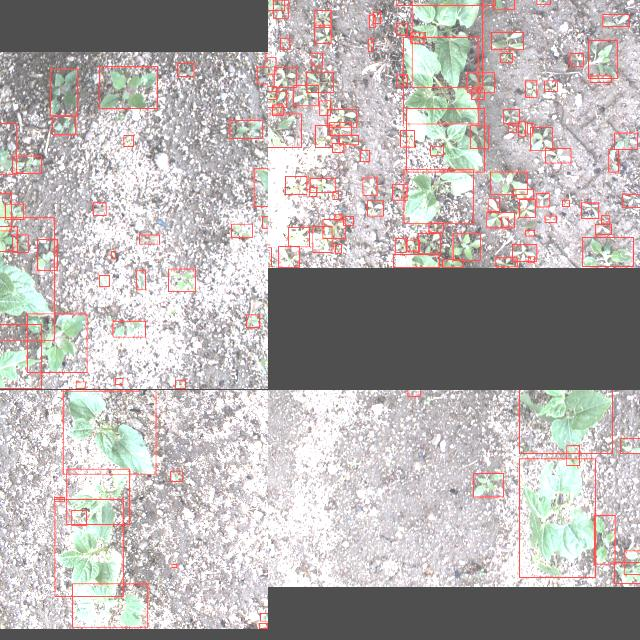crop: (519, 458, 595, 578), (62, 390, 155, 474), (402, 36, 478, 124), (54, 499, 122, 596), (0, 217, 53, 340), (411, 0, 482, 88), (518, 390, 611, 453), (406, 108, 484, 172), (403, 170, 473, 224), (65, 469, 128, 525), (72, 584, 146, 628), (0, 325, 40, 389), (0, 122, 16, 173), (392, 255, 438, 268), (253, 168, 268, 206)
weed: (26, 314, 86, 372), (99, 66, 157, 108), (582, 238, 632, 266), (49, 69, 76, 115), (268, 114, 300, 148), (588, 40, 616, 78), (594, 516, 614, 564), (489, 172, 526, 194), (452, 233, 480, 260), (473, 473, 503, 497), (168, 268, 195, 292), (37, 240, 57, 270), (229, 120, 261, 138), (491, 32, 523, 50), (292, 84, 318, 106), (466, 73, 494, 93), (614, 562, 640, 583), (326, 109, 356, 127), (529, 127, 551, 151), (306, 72, 332, 92), (112, 321, 144, 337), (313, 227, 332, 253), (12, 156, 40, 172), (486, 212, 514, 228), (418, 234, 440, 254), (273, 67, 295, 87), (278, 246, 298, 268), (469, 125, 488, 148), (51, 116, 75, 134), (512, 244, 536, 262), (544, 148, 570, 164), (623, 551, 640, 575), (0, 226, 16, 251), (288, 227, 308, 247), (614, 132, 636, 150), (314, 125, 332, 147), (284, 177, 306, 195), (322, 220, 344, 238), (314, 24, 331, 44), (310, 178, 334, 192), (602, 14, 628, 26), (230, 224, 252, 238), (329, 122, 351, 136), (268, 90, 286, 107), (620, 438, 640, 453), (12, 235, 28, 253), (580, 203, 598, 219), (519, 200, 535, 218), (272, 0, 288, 18), (4, 204, 23, 218), (503, 108, 519, 124), (367, 200, 383, 216), (314, 10, 330, 26), (70, 510, 86, 526), (362, 178, 376, 196), (400, 130, 414, 148), (621, 194, 640, 207), (566, 445, 578, 465), (177, 62, 193, 76), (392, 184, 406, 200), (608, 150, 618, 172), (496, 258, 516, 268), (513, 189, 533, 199), (338, 135, 358, 145), (524, 81, 536, 97), (492, 0, 513, 9), (257, 66, 268, 83), (92, 202, 106, 215), (139, 234, 159, 243), (318, 100, 329, 116), (246, 314, 258, 328), (543, 80, 557, 92), (536, 193, 548, 207), (487, 198, 499, 212), (394, 238, 406, 252), (310, 52, 322, 66), (136, 270, 144, 290), (595, 225, 611, 235), (442, 260, 462, 268), (268, 0, 283, 10), (570, 54, 582, 66), (406, 240, 418, 252), (471, 89, 484, 99), (411, 33, 424, 43), (123, 134, 133, 146), (98, 275, 108, 287), (590, 76, 610, 82), (500, 52, 512, 62), (430, 146, 442, 156), (396, 74, 406, 86), (396, 23, 406, 35), (169, 472, 181, 482), (428, 224, 442, 232), (268, 58, 275, 74), (268, 86, 276, 100), (359, 150, 368, 162), (272, 105, 282, 115), (175, 379, 185, 388), (343, 217, 353, 226), (261, 216, 268, 228), (518, 122, 524, 136), (500, 217, 508, 227), (372, 12, 380, 22), (280, 38, 288, 48), (332, 144, 342, 152), (368, 15, 374, 28), (526, 122, 532, 134), (544, 216, 556, 222), (259, 613, 268, 621), (407, 390, 419, 396), (601, 216, 609, 224), (308, 188, 316, 196), (524, 230, 534, 236), (54, 496, 64, 502), (368, 38, 372, 52), (335, 244, 341, 253), (114, 379, 122, 385), (76, 382, 84, 388), (507, 126, 515, 132), (332, 192, 338, 200), (536, 0, 550, 3), (562, 200, 568, 206), (527, 257, 533, 263), (334, 214, 340, 220), (258, 624, 266, 628), (265, 53, 268, 61), (111, 252, 115, 258), (172, 564, 176, 568)
